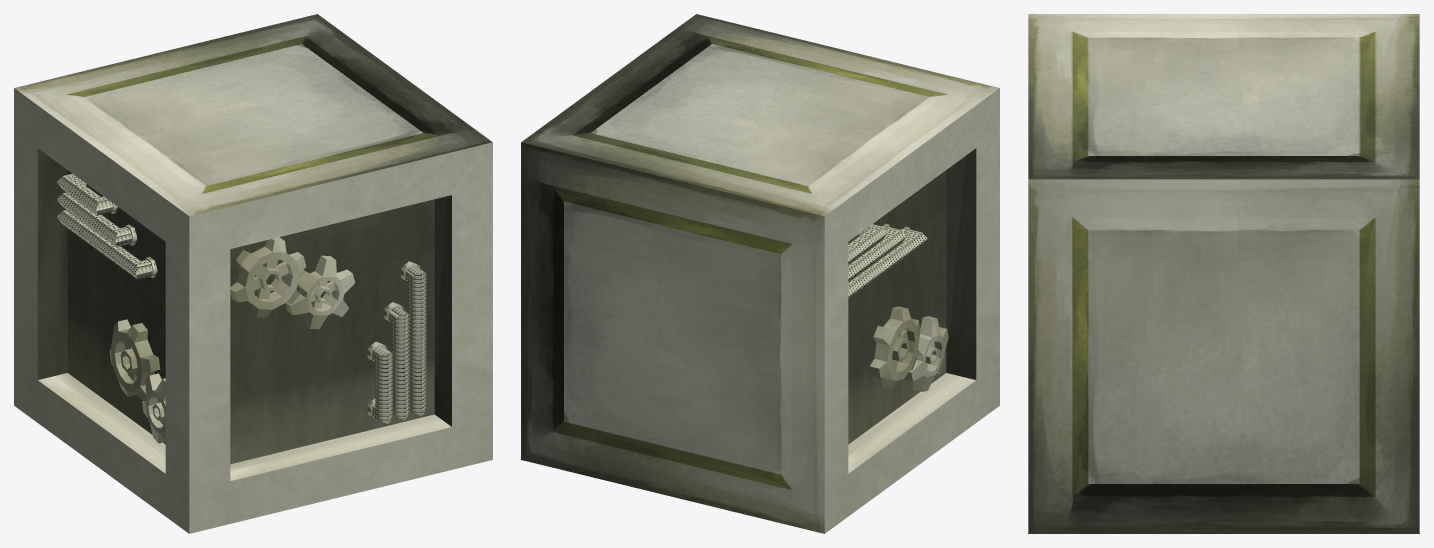
Rendered from field_block1.FBX.
3 views of the same model, side by side, from view 1: azimuth 30°, elevation 25°; view 2: azimuth 150°, elevation 25°; view 3: azimuth 270°, elevation 25° (orthographic). The views are drawn at different scales.
Visible parts, largest first — view 1: Box001, Cylinder002, Line001, Line002, Cylinder003; view 2: Box001, Cylinder003, Line002; view 3: Box001.
Boxes of the visible parts, x1,y1,x2,y2 form: Box001: [14, 14, 492, 533]; Cylinder002: [230, 237, 355, 329]; Line001: [367, 261, 426, 424]; Line002: [57, 173, 157, 279]; Cylinder003: [109, 319, 165, 443]; Box001: [521, 14, 999, 533]; Cylinder003: [869, 306, 948, 391]; Line002: [848, 223, 927, 299]; Box001: [1028, 14, 1419, 533].
Size of the model in its own units: 78.74 by 78.74 by 78.74.
